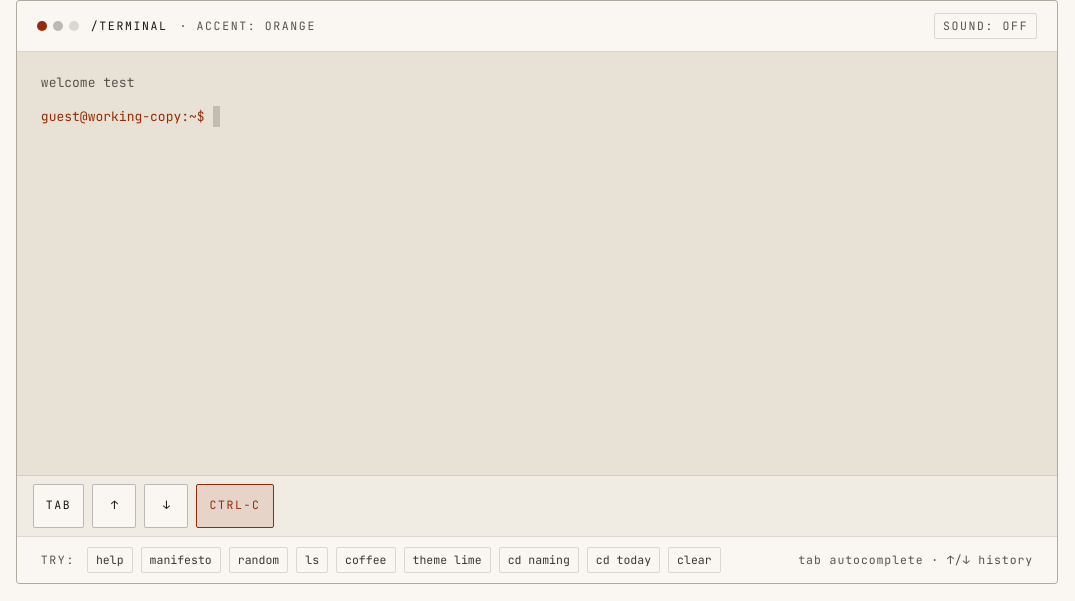
it: <Terminal /> interactive behavior › keeps typing sound off by default and lets the user toggle it on
Click the button "sound: off": (986, 26) [934, 13, 1037, 39]
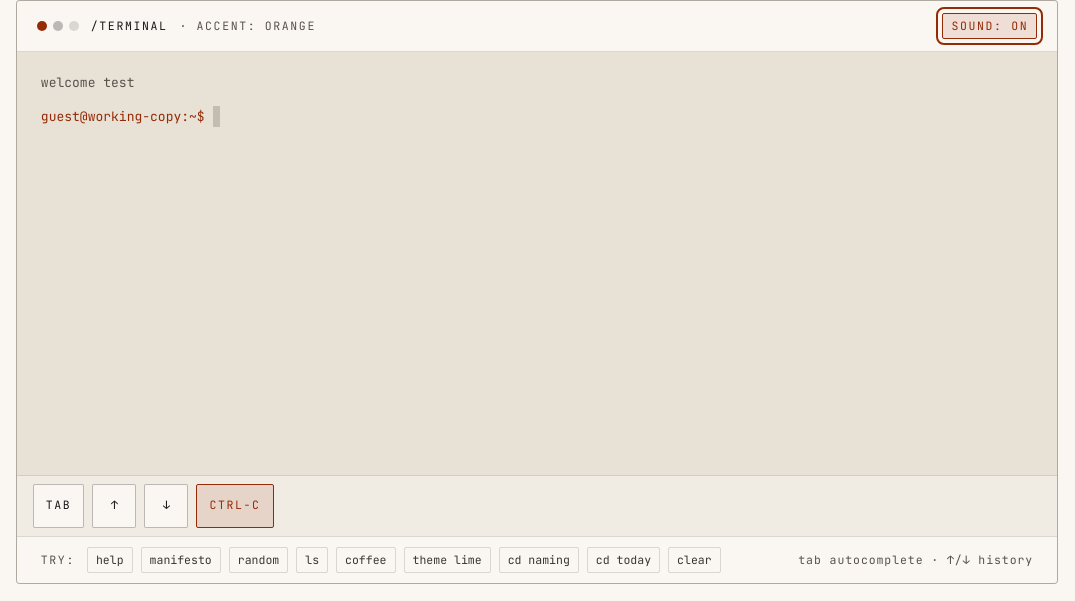
Expected: the button named "sound: off" reads "sound: on", [942, 13, 1037, 39]
